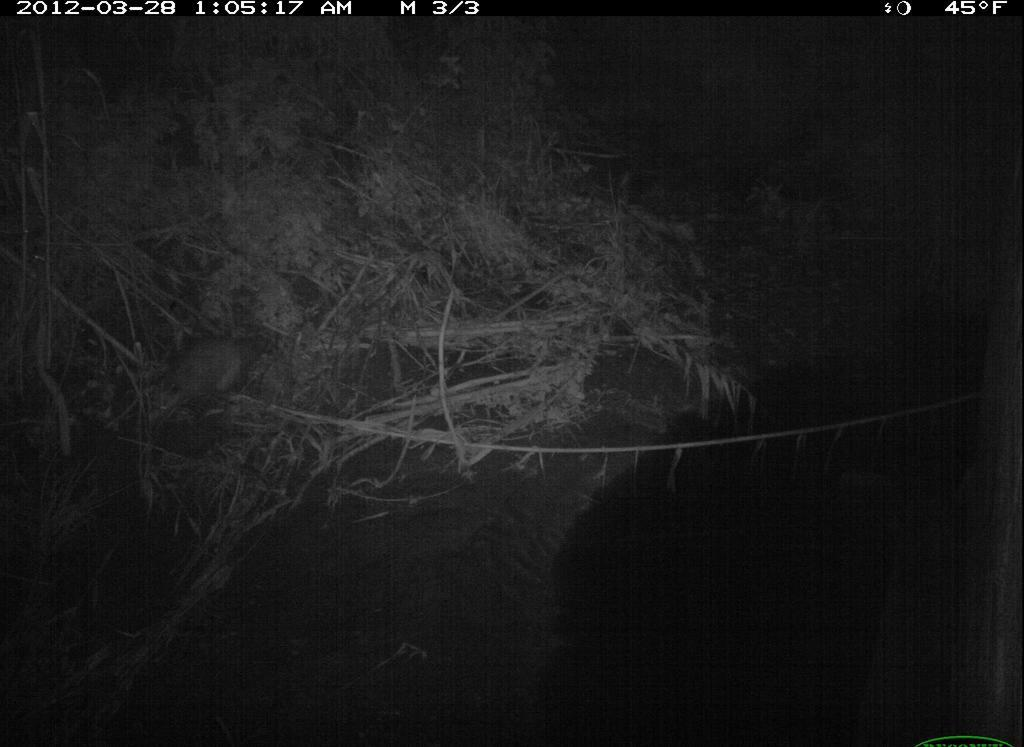opossum: (139, 313, 309, 427)
